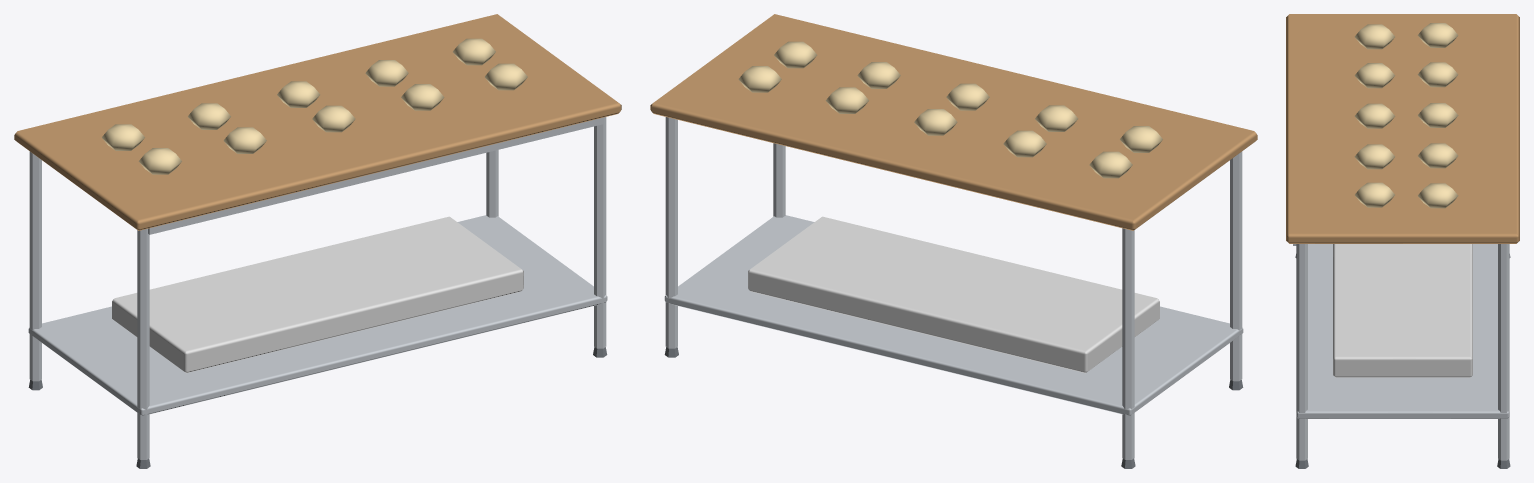
Rendered from dough-table.lod1.glb.
3 views of the same model, side by side, from view 1: azimuth 30°, elevation 25°; view 2: azimuth 150°, elevation 25°; view 3: azimuth 270°, elevation 25° (orthographic). The views are drawn at different scales.
Visible parts, largest first — view 1: BODY, PROPS, FOOD; view 2: BODY, PROPS, FOOD; view 3: BODY, PROPS, FOOD.
Boxes of the visible parts, box(x1,y1,x2,y2) form: BODY: box(14, 14, 621, 468); PROPS: box(112, 216, 523, 373); FOOD: box(102, 38, 527, 174); BODY: box(650, 14, 1257, 468); PROPS: box(748, 216, 1159, 373); FOOD: box(738, 41, 1162, 178); BODY: box(1286, 14, 1519, 468); PROPS: box(1333, 244, 1472, 377); FOOD: box(1354, 23, 1458, 208).
Bounding box in the file's own units: 1.8 × 0.9686 × 0.7999.
